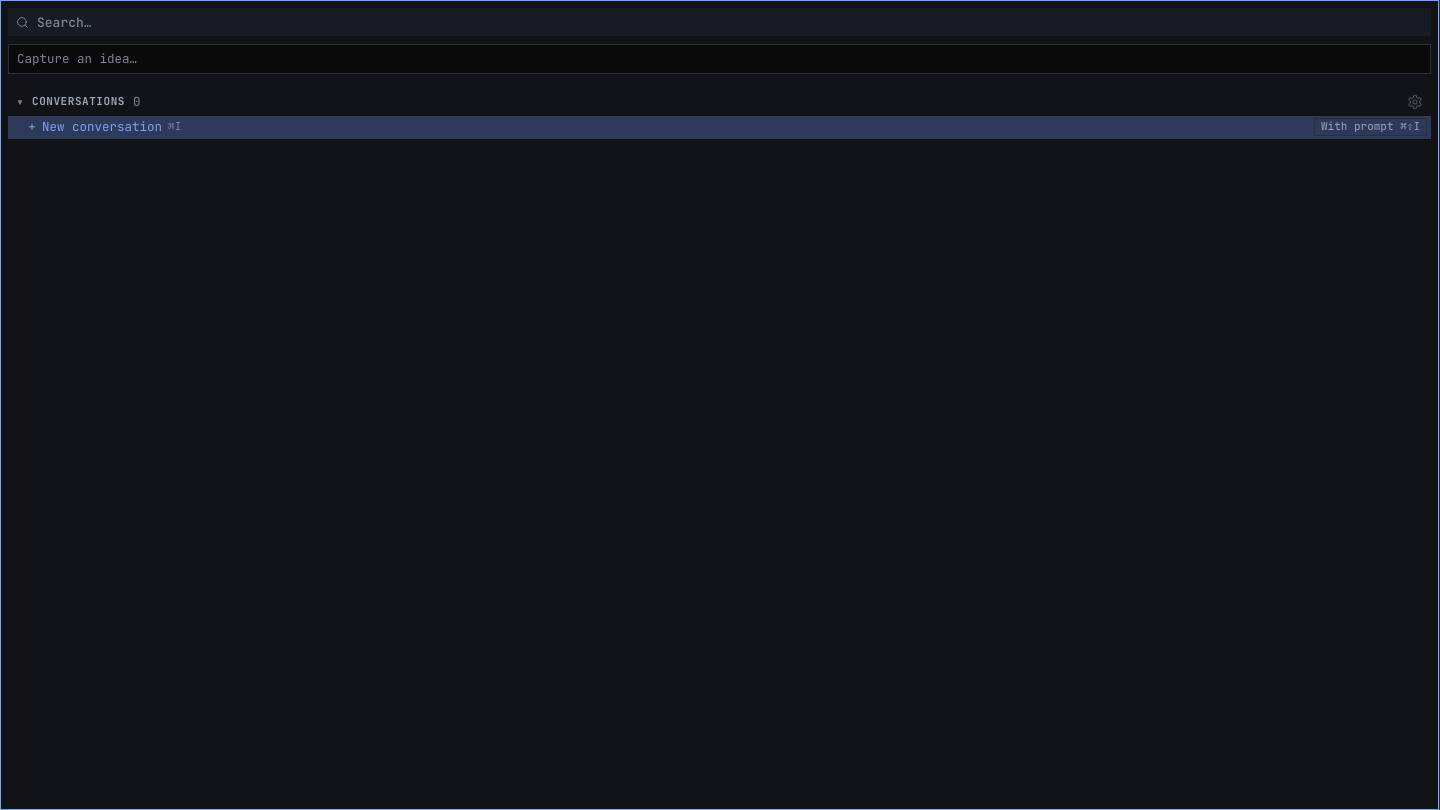
overhaul acceptance — Conversation shortcuts and composer › opens the inline composer on Cmd+Shift+I and starts with its prompt
Expected: the list item "+ New conversation ⌘I With prompt ⌘⇧I" is shown, [8,116,1431,139]
Press I
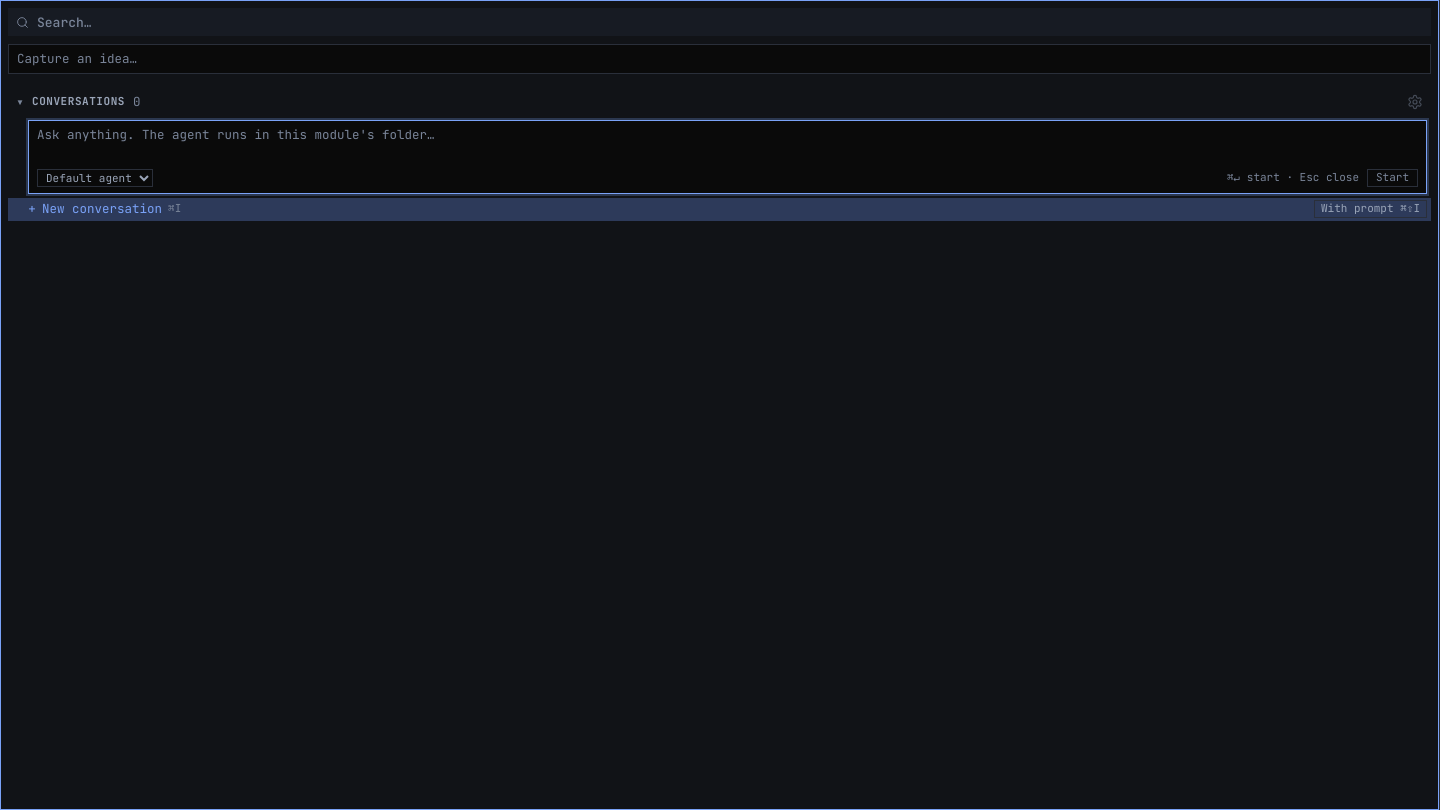
Expected: the button "Start" is disabled, [1367,169,1418,187]
Type "  Why does resize flicker?  " into the text box named "First message for the new conversation" at (728, 145), box [29,121,1426,169]
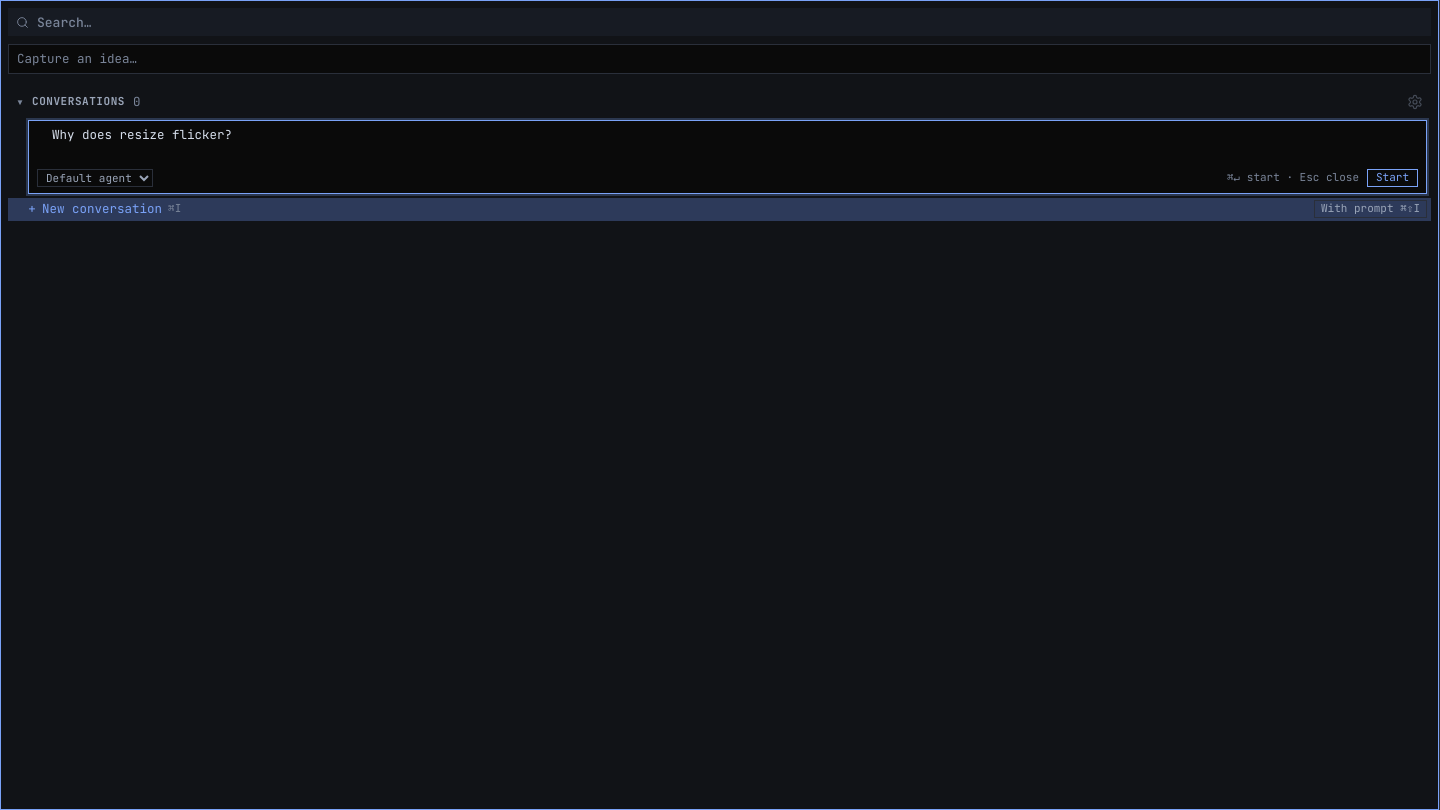
Expected: the button "Start" is enabled, [1367,169,1418,187]
Press Enter in the text box named "First message for the new conversation", box [29,121,1426,169]
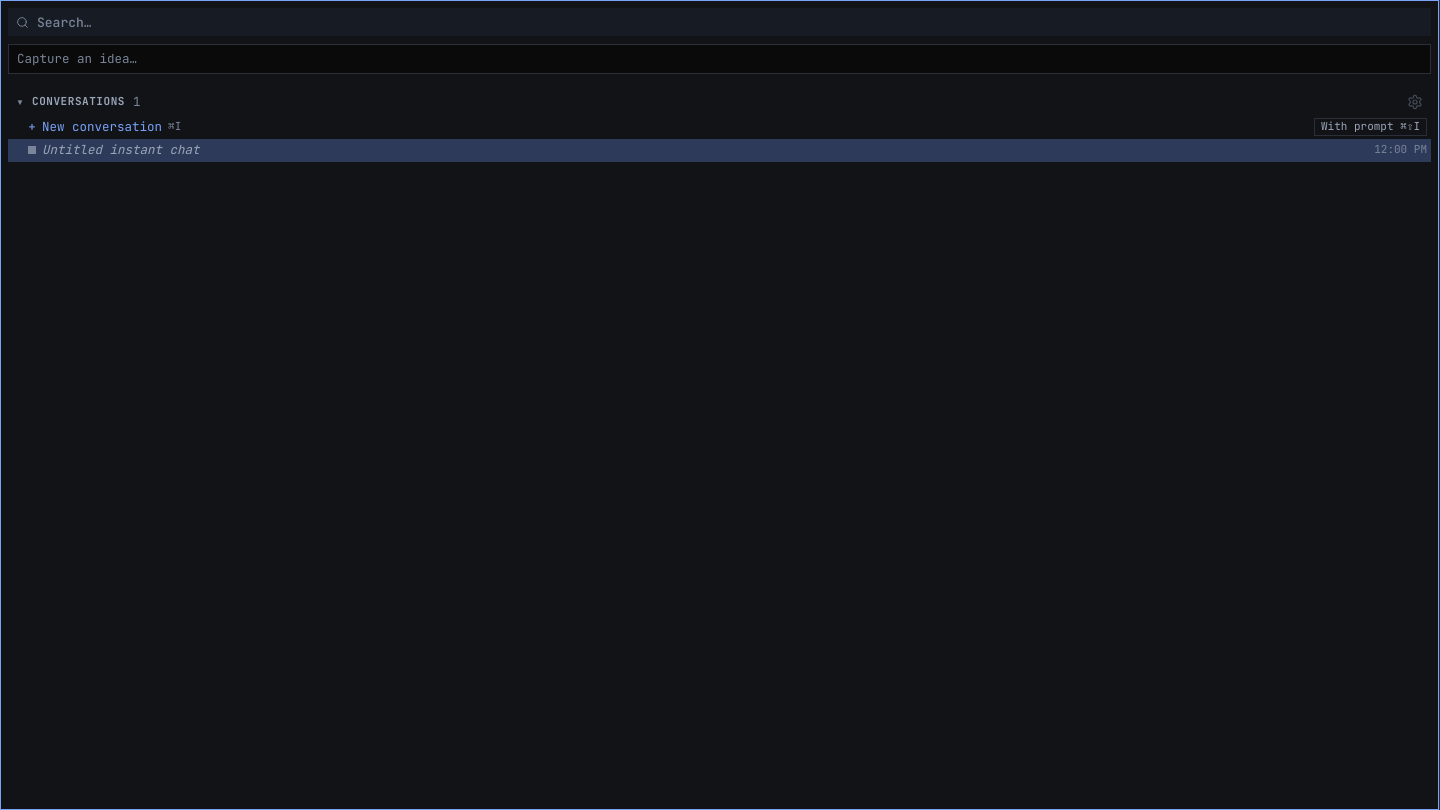
Expected: the list item "Untitled instant chat 12:00 PM" is shown, [8,139,1431,162]
